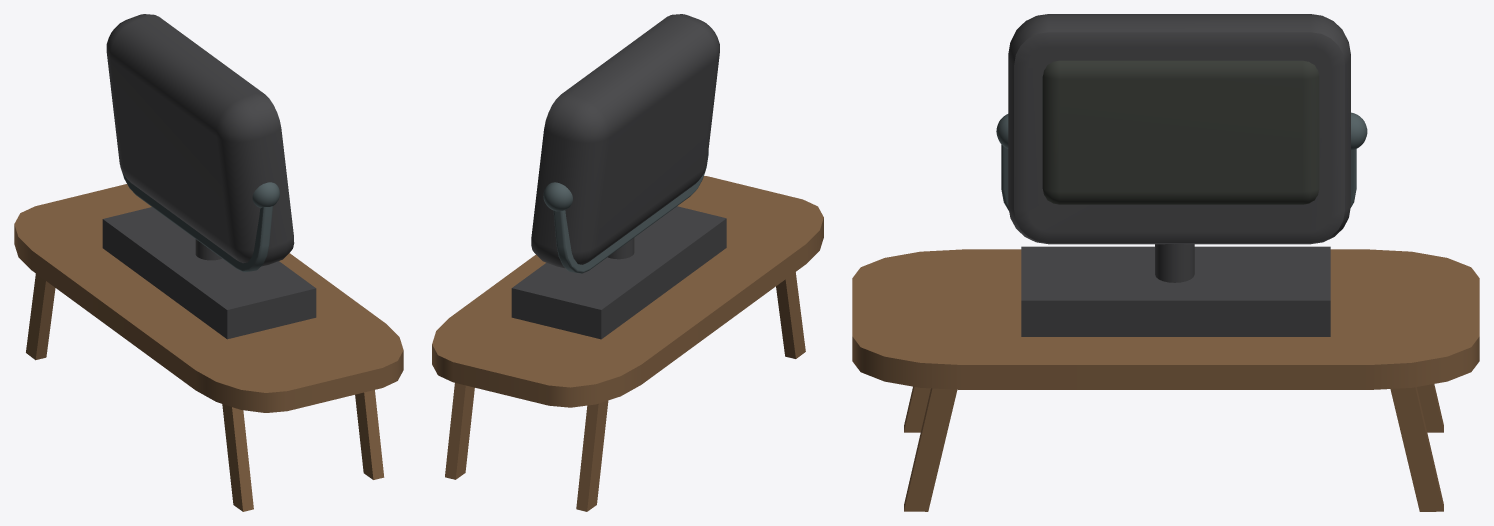
The model's file is tele.obj.
3 renders of one model, left to right at view 1: azimuth 30°, elevation 25°; view 2: azimuth 150°, elevation 25°; view 3: azimuth 270°, elevation 25°, orthographic. The views are drawn at different scales.
Visible parts, largest first — view 1: pCube6, pCube8, pCube7, pCube10, pSphere2; view 2: pCube6, pCube8, pCube7, pCube10, pSphere1; view 3: pCube6, pCube9, pCube8, pCube7, pCylinder1, pCube10.
Part boxes in pixels (bbox=[...]): pCube6: bbox=[14, 184, 403, 511]; pCube8: bbox=[106, 14, 294, 266]; pCube7: bbox=[102, 207, 316, 339]; pCube10: bbox=[120, 167, 272, 272]; pSphere2: bbox=[252, 182, 279, 208]; pCube6: bbox=[432, 176, 823, 511]; pCube8: bbox=[531, 14, 719, 268]; pCube7: bbox=[511, 206, 726, 339]; pCube10: bbox=[553, 151, 708, 273]; pSphere1: bbox=[543, 182, 572, 211]; pCube6: bbox=[852, 249, 1479, 511]; pCube9: bbox=[1042, 60, 1319, 204]; pCube8: bbox=[1008, 14, 1350, 244]; pCube7: bbox=[1021, 246, 1330, 336]; pCylinder1: bbox=[1155, 244, 1194, 282]; pCube10: bbox=[1001, 144, 1356, 211].
Bounding box in the file's own units: 1.65 × 2.96 × 3.78.
4 materials, 4 textured.
